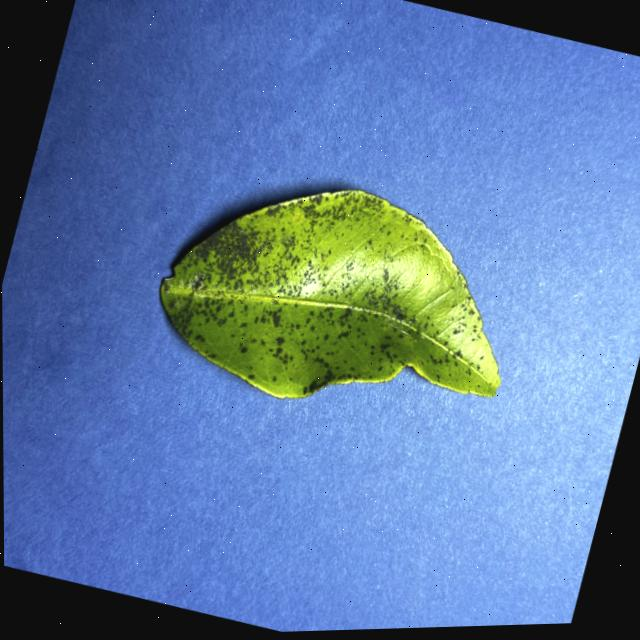sooty_mold: (159, 189, 499, 396)
